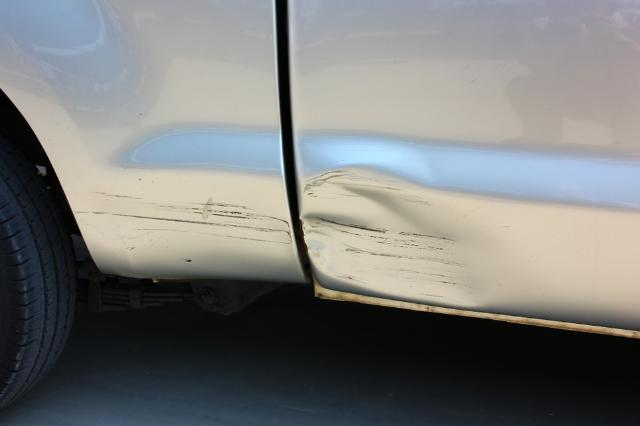Door: (308, 156, 580, 307)
Fender: (70, 155, 293, 275)
